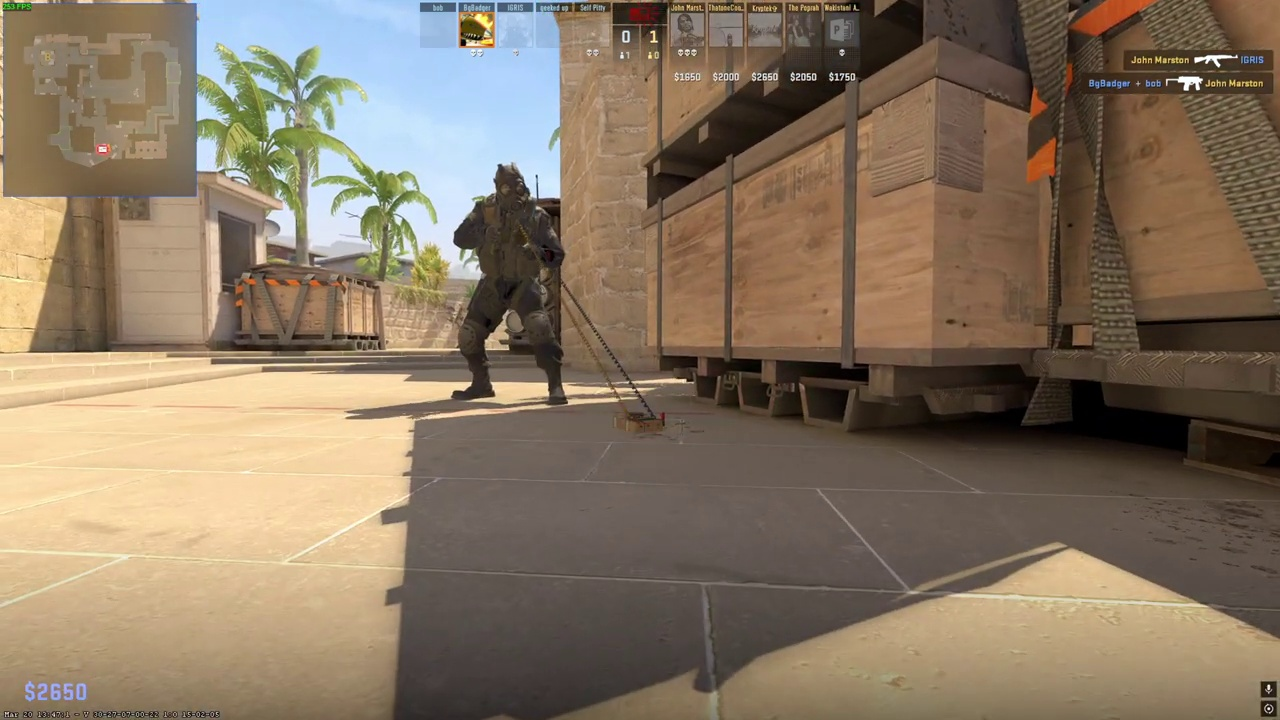CT: (446, 162, 572, 409)
